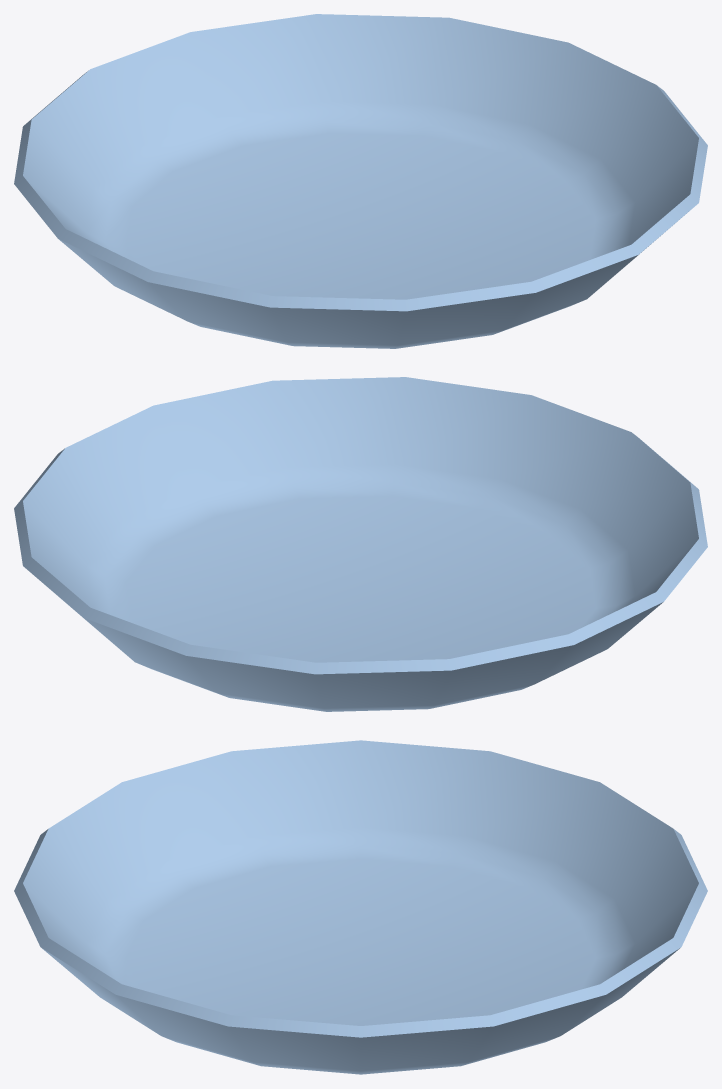
File: Plate_01.fbx
3 renders of one model, top to bottom at view 1: azimuth 30°, elevation 25°; view 2: azimuth 150°, elevation 25°; view 3: azimuth 270°, elevation 25°, orthographic.
Parts seen in each view (by area): view 1: Plate_01; view 2: Plate_01; view 3: Plate_01.
Boxes of the visible parts, x1,y1,x2,y2 form: Plate_01: (14,14,707,348); Plate_01: (14,377,707,711); Plate_01: (14,740,707,1074).
Size of the model in its own units: 73.06 by 73.06 by 10.
